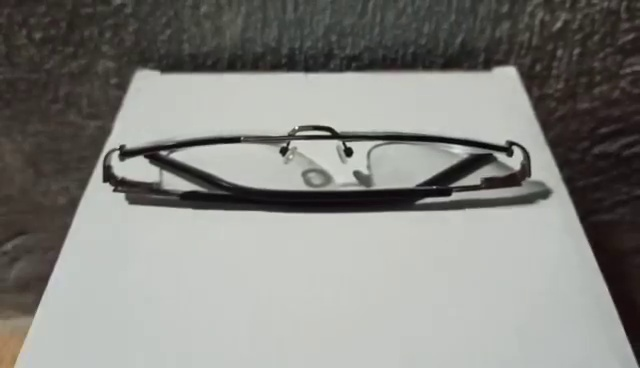glasses: (100, 128, 545, 211)
